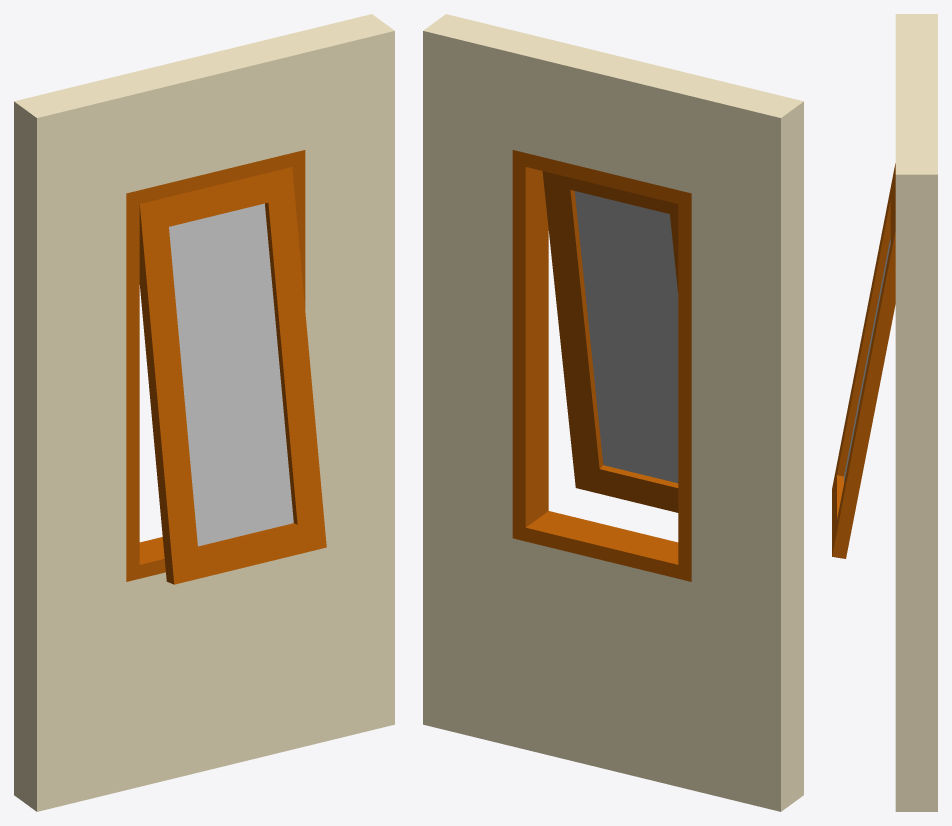
File: window.gltf
3 renders of one model, left to right at view 1: azimuth 30°, elevation 25°; view 2: azimuth 150°, elevation 25°; view 3: azimuth 270°, elevation 25°, orthographic. The views are drawn at different scales.
Parts seen in each view (by area): view 1: root; view 2: root; view 3: root.
Part boxes in pixels (x1,y1,x2,y2): root: (14, 14, 394, 811); root: (423, 14, 803, 811); root: (832, 14, 937, 811).
Bounding box in the file's own units: 1.35 × 2.5 × 0.3757.
